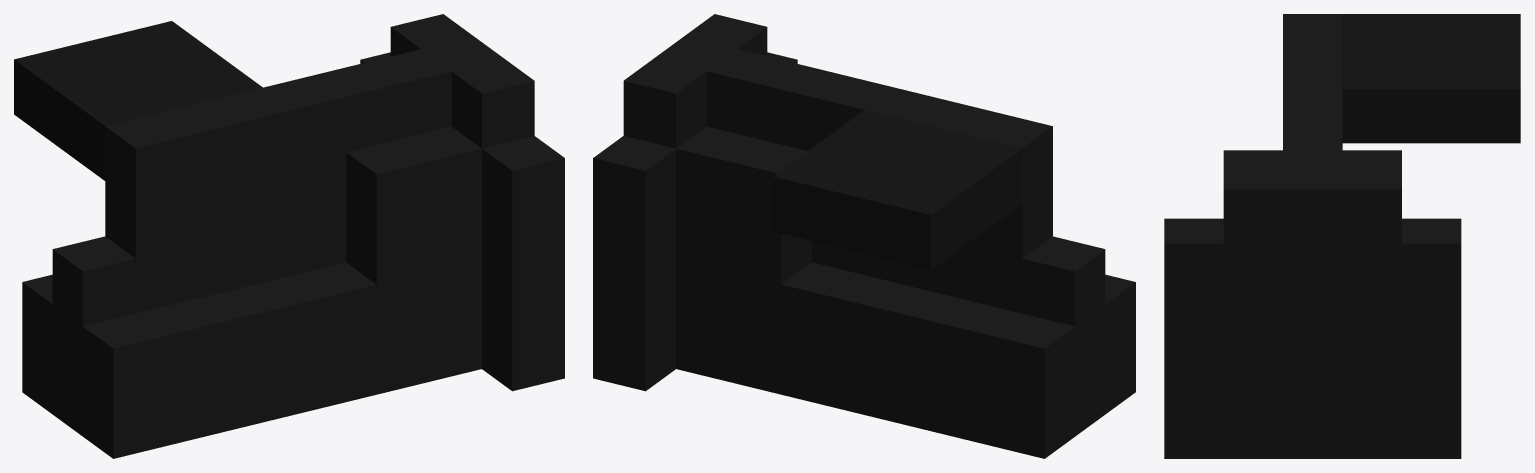
The model's file is Kar98k_bolt_safety_off.obj.
3 views of the same model, side by side, from view 1: azimuth 30°, elevation 25°; view 2: azimuth 150°, elevation 25°; view 3: azimuth 270°, elevation 25° (orthographic). The views are drawn at different scales.
Size of the model in its own units: 0.8 by 0.5 by 0.6.
Materials: 1 (1 with a texture image).
